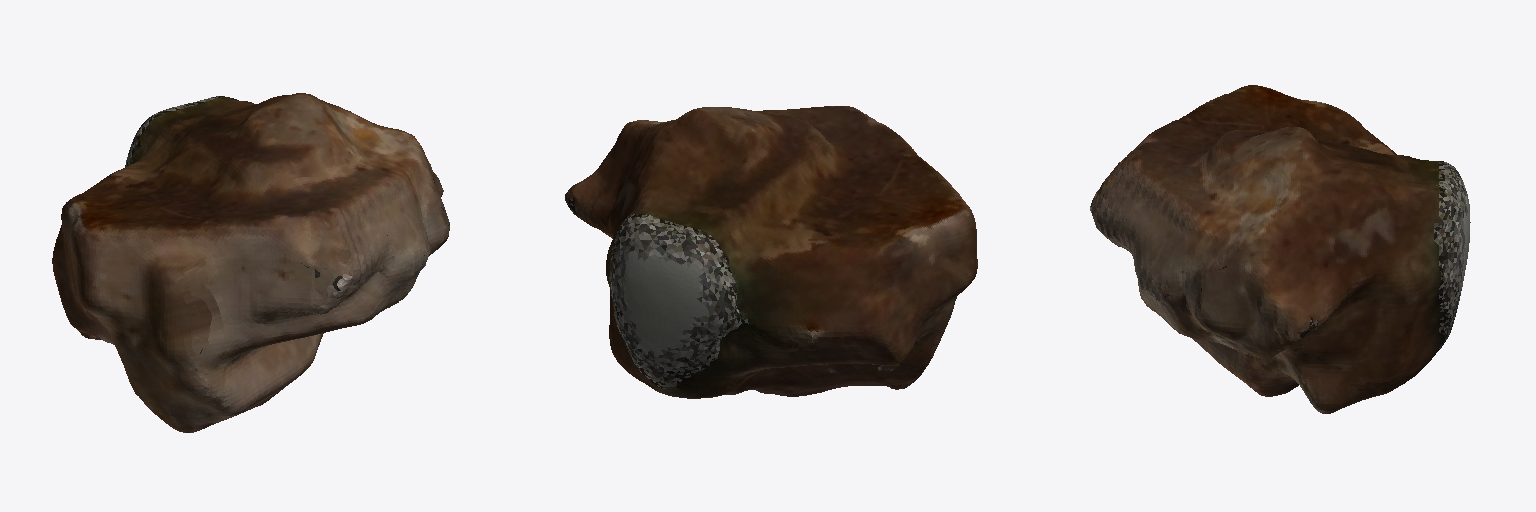
The picture shows the model from 3 angles: view 1: azimuth 30°, elevation 25°; view 2: azimuth 150°, elevation 25°; view 3: azimuth 270°, elevation 25°; orthographic projection.
Bounding box in the file's own units: 59.82 × 41.71 × 51.34.
1 materials, 1 textured.